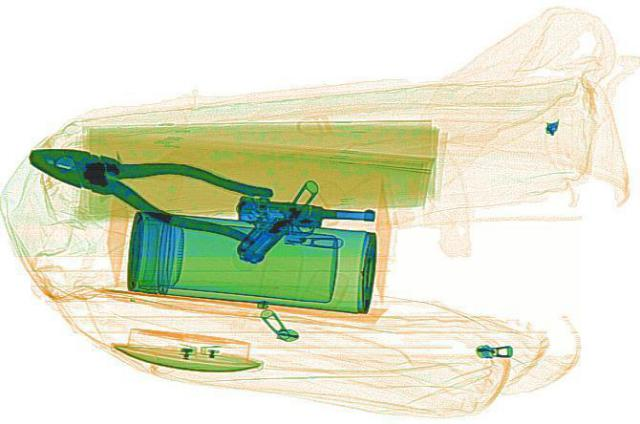Gun: (228, 190, 376, 270)
Pliers: (8, 126, 278, 240)
